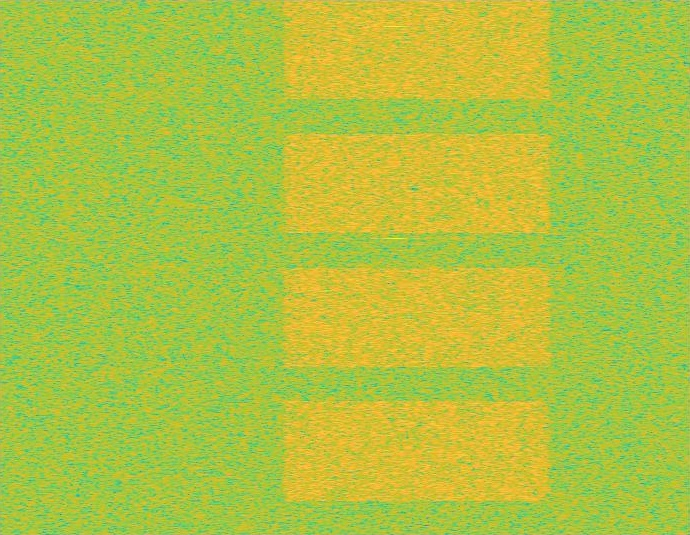5G: (279, 0, 555, 534)
Radar: (388, 0, 402, 534)
